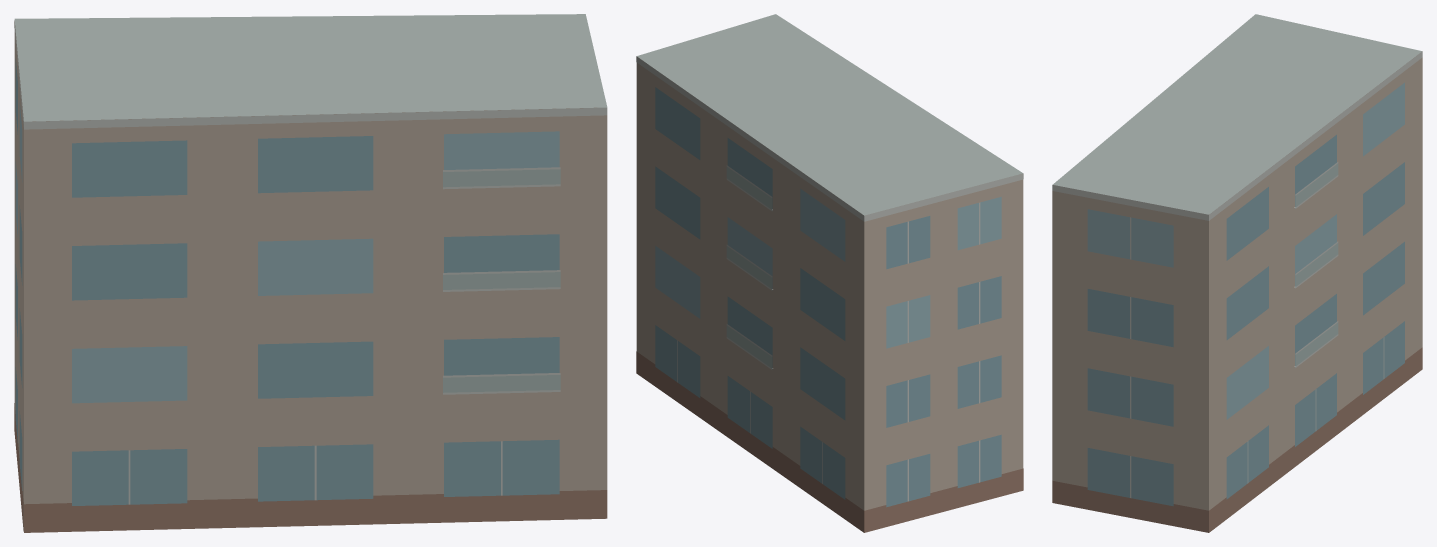
The model's file is survey-upis-32480888.glb.
3 views of the same model, side by side, from view 1: azimuth 30°, elevation 25°; view 2: azimuth 150°, elevation 25°; view 3: azimuth 270°, elevation 25° (orthographic). The views are drawn at different scales.
Parts seen in each view (by area): view 1: survey-upis-32480888.tmp; view 2: survey-upis-32480888.tmp; view 3: survey-upis-32480888.tmp.
Part boxes in pixels (<box>): survey-upis-32480888.tmp: <box>14,14,607,532</box>; survey-upis-32480888.tmp: <box>636,14,1023,532</box>; survey-upis-32480888.tmp: <box>1052,14,1422,532</box>.
Size of the model in its own units: 17.06 by 12.6 by 13.29.
